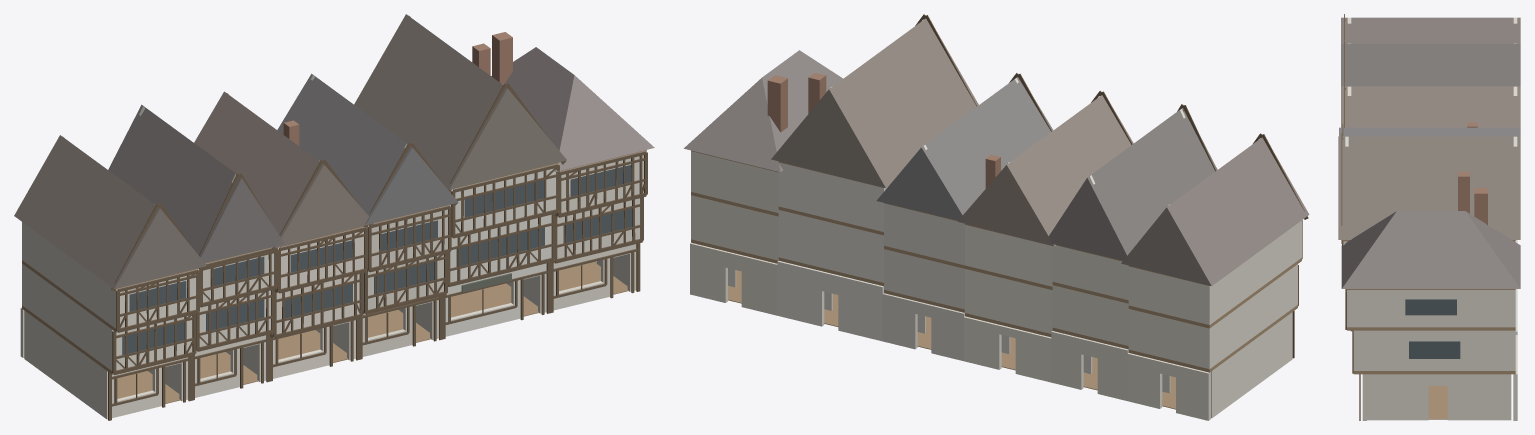
File: llandoger-row.glb
3 views of the same model, side by side, from view 1: azimuth 30°, elevation 25°; view 2: azimuth 150°, elevation 25°; view 3: azimuth 270°, elevation 25° (orthographic). The views are drawn at different scales.
Parts seen in each view (by area): view 1: oak-timber, roof-05, roof-01, roof-02, roof-03, roof-04, roof-06 (hipped corner roof), walls-storey-1-01, walls-storey-2-01, wall-side-ground-01-l, wall-front-ground-05 (tavern front), walls-storey-2-05 (+33 smaller); view 2: roof-05, roof-01, roof-02, roof-03, roof-04, roof-06 (hipped corner roof), walls-storey-1-01, walls-storey-2-01, wall-back-ground-05, walls-storey-1-05, walls-storey-2-05, wall-back-ground-06 (+17 smaller); view 3: roof-05, roof-06 (hipped corner roof), roof-02, roof-03, wall-side-ground-06-r (corner side door), walls-storey-1-06, walls-storey-2-06, roof-01, roof-04, window-1-06-side, window-2-06-side, floor-ground-06 (+7 smaller).
Part boxes in pixels (left/top/right/bottom): oak-timber: left=108, top=83, right=647, bottom=420; roof-05: left=354, top=14, right=566, bottom=189; roof-01: left=14, top=135, right=206, bottom=289; roof-02: left=108, top=104, right=284, bottom=264; roof-03: left=194, top=91, right=374, bottom=248; roof-04: left=277, top=73, right=458, bottom=224; roof-06 (hipped corner roof): left=491, top=47, right=654, bottom=171; walls-storey-1-01: left=22, top=264, right=192, bottom=370; walls-storey-2-01: left=22, top=222, right=199, bottom=328; wall-side-ground-01-l: left=24, top=310, right=105, bottom=417; wall-front-ground-05 (tavern front): left=445, top=263, right=546, bottom=336; walls-storey-2-05: left=450, top=163, right=559, bottom=233; roof-05: left=771, top=18, right=978, bottom=187; roof-01: left=1121, top=137, right=1309, bottom=286; roof-02: left=1045, top=108, right=1217, bottom=261; roof-03: left=957, top=95, right=1133, bottom=246; roof-04: left=876, top=77, right=1053, bottom=222; roof-06 (hipped corner roof): left=684, top=50, right=842, bottom=172; walls-storey-1-01: left=1128, top=264, right=1297, bottom=369; walls-storey-2-01: left=1128, top=220, right=1301, bottom=324; wall-back-ground-05: left=777, top=260, right=883, bottom=341; walls-storey-1-05: left=778, top=210, right=883, bottom=282; walls-storey-2-05: left=778, top=162, right=887, bottom=231; wall-back-ground-06: left=690, top=242, right=777, bottom=315; roof-05: left=1338, top=136, right=1520, bottom=239; roof-06 (hipped corner roof): left=1341, top=211, right=1520, bottom=288; roof-02: left=1341, top=44, right=1520, bottom=86; roof-03: left=1341, top=86, right=1520, bottom=127; wall-side-ground-06-r (corner side door): left=1367, top=374, right=1511, bottom=420; walls-storey-1-06: left=1353, top=330, right=1515, bottom=370; walls-storey-2-06: left=1347, top=290, right=1515, bottom=327; roof-01: left=1341, top=17, right=1520, bottom=43; roof-04: left=1339, top=127, right=1520, bottom=136; window-1-06-side: left=1409, top=341, right=1460, bottom=358; window-2-06-side: left=1405, top=299, right=1456, bottom=315; floor-ground-06: left=1428, top=386, right=1447, bottom=419.
Bounding box in the file's own units: 32.66 × 14.39 × 10.6.
